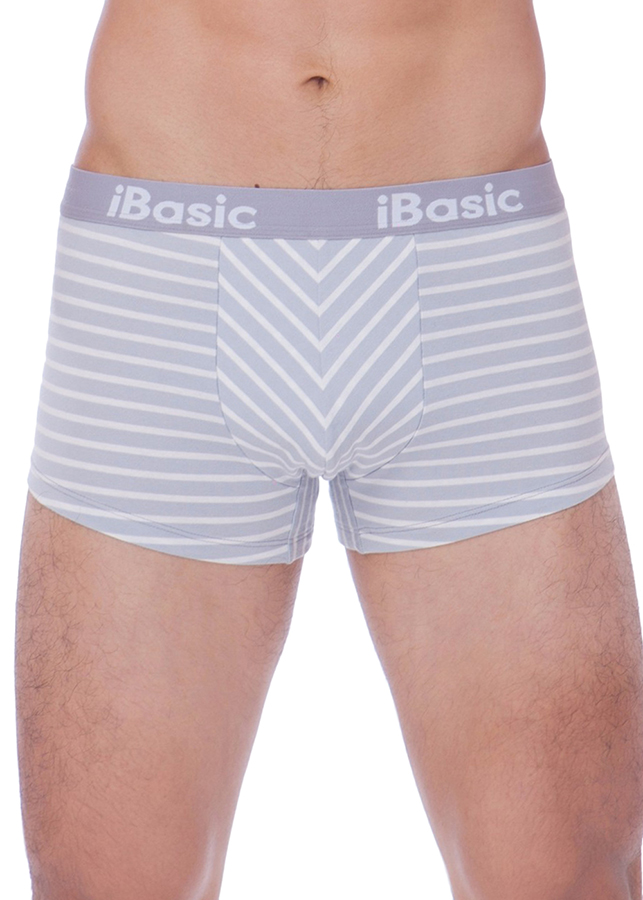iBasic: (98, 177, 261, 241), (364, 179, 530, 235)
